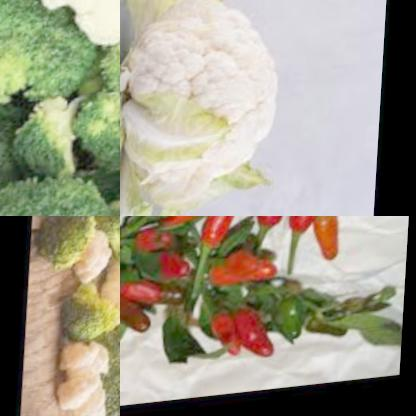broccoli: (0, 32, 120, 216), (0, 0, 120, 101), (59, 275, 120, 352), (41, 216, 110, 272), (97, 316, 120, 416)
cayliflower: (120, 0, 298, 216), (0, 0, 120, 107), (43, 333, 120, 416), (73, 224, 120, 289), (105, 262, 120, 328)
hot pepper: (194, 305, 278, 371), (216, 246, 282, 302), (141, 230, 196, 290), (309, 216, 345, 275), (208, 216, 252, 262), (120, 287, 153, 348), (120, 277, 170, 315), (161, 216, 229, 240), (254, 216, 295, 246), (294, 216, 328, 247)
